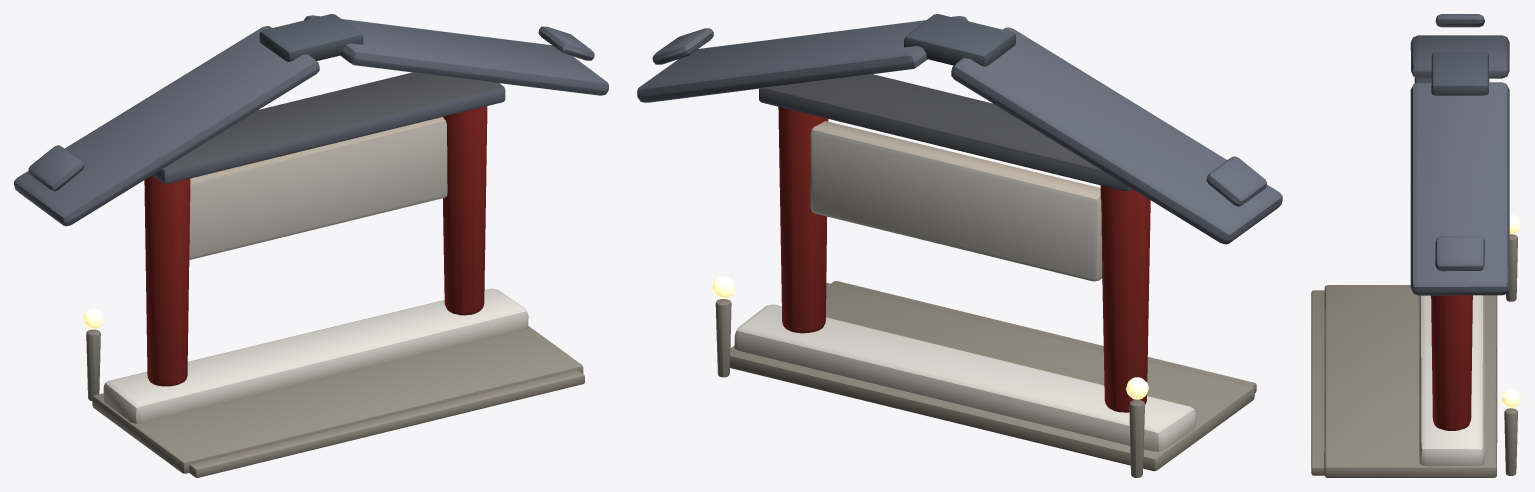
3 renders of one model, left to right at view 1: azimuth 30°, elevation 25°; view 2: azimuth 150°, elevation 25°; view 3: azimuth 270°, elevation 25°, orthographic. The views are drawn at different scales.
Parts seen in each view (by area): view 1: gate_2f087745; view 2: gate_2f087745; view 3: gate_2f087745.
Part boxes in pixels (x1,y1,x2,y2): gate_2f087745: (14,14,608,477); gate_2f087745: (637,14,1282,477); gate_2f087745: (1311,14,1520,477).
Size of the model in its own units: 7.2 by 4.29 by 2.55.
